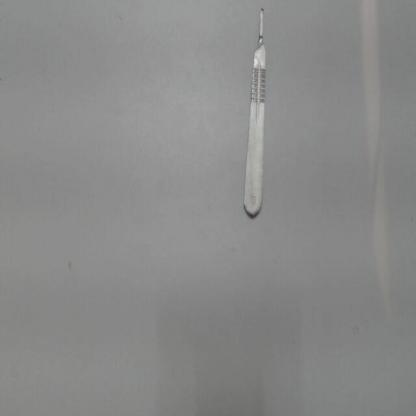No.3 BP Handle: (236, 8, 270, 229)
